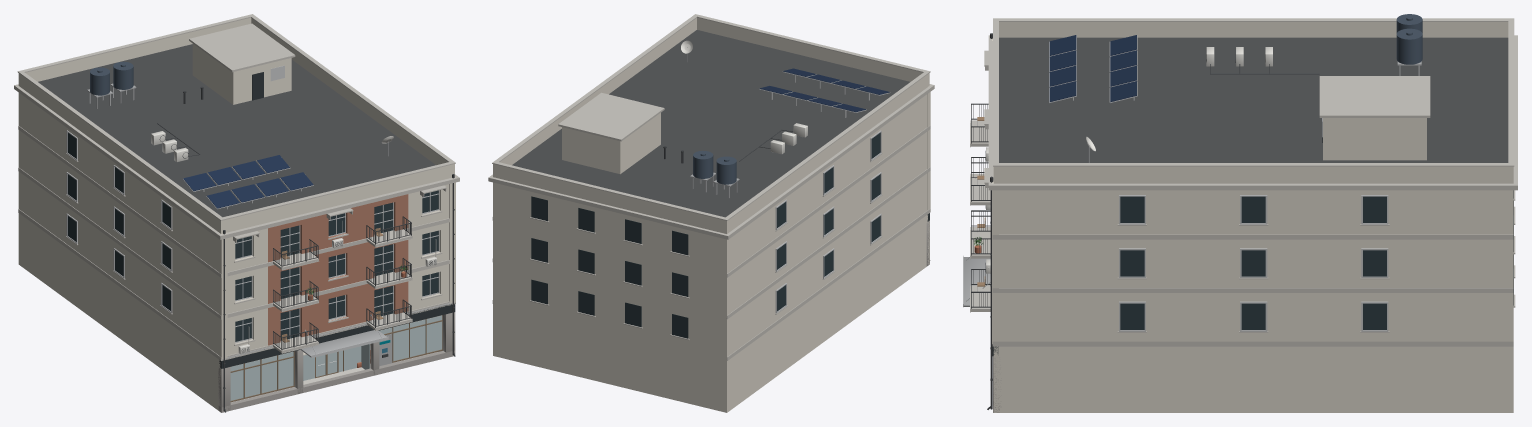
The model's file is hero-bank.glb.
The picture shows the model from 3 angles, left to right: view 1: azimuth 30°, elevation 25°; view 2: azimuth 150°, elevation 25°; view 3: azimuth 270°, elevation 25°; orthographic projection. The views are drawn at different scales.
Visible parts, largest first — view 1: SM_heroBank; view 2: SM_heroBank; view 3: SM_heroBank.
Boxes of the visible parts, left/top/right/bottom form: SM_heroBank: left=14, top=14, right=459, bottom=412; SM_heroBank: left=488, top=14, right=934, bottom=412; SM_heroBank: left=963, top=14, right=1517, bottom=412.
Bounding box in the file's own units: 20.5 × 17.63 × 32.02.
